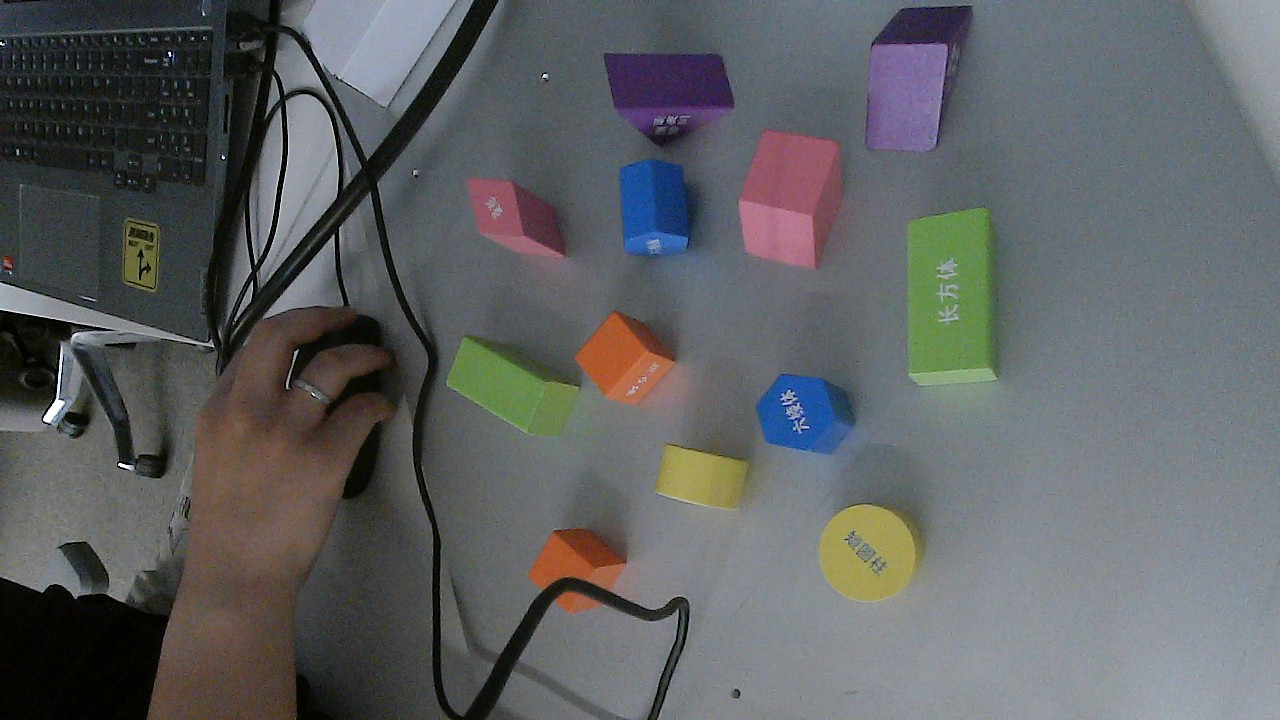circle: (811, 499, 928, 603), (649, 444, 751, 511)
diamond: (738, 127, 847, 271), (468, 174, 565, 257)
hexagon: (757, 372, 853, 460), (619, 157, 693, 260)
rectangle: (902, 205, 1000, 394), (440, 335, 583, 436)
square: (574, 306, 675, 405), (527, 526, 629, 611)
triangle: (868, 5, 972, 150), (601, 46, 736, 151)
